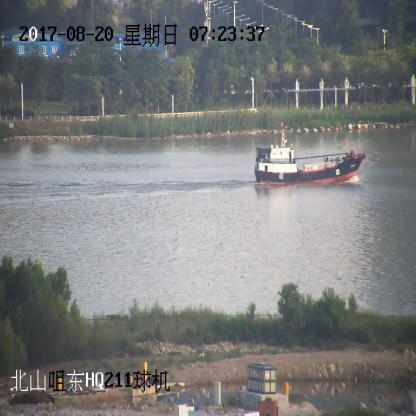Fishing Boat: (254, 133, 366, 186)
